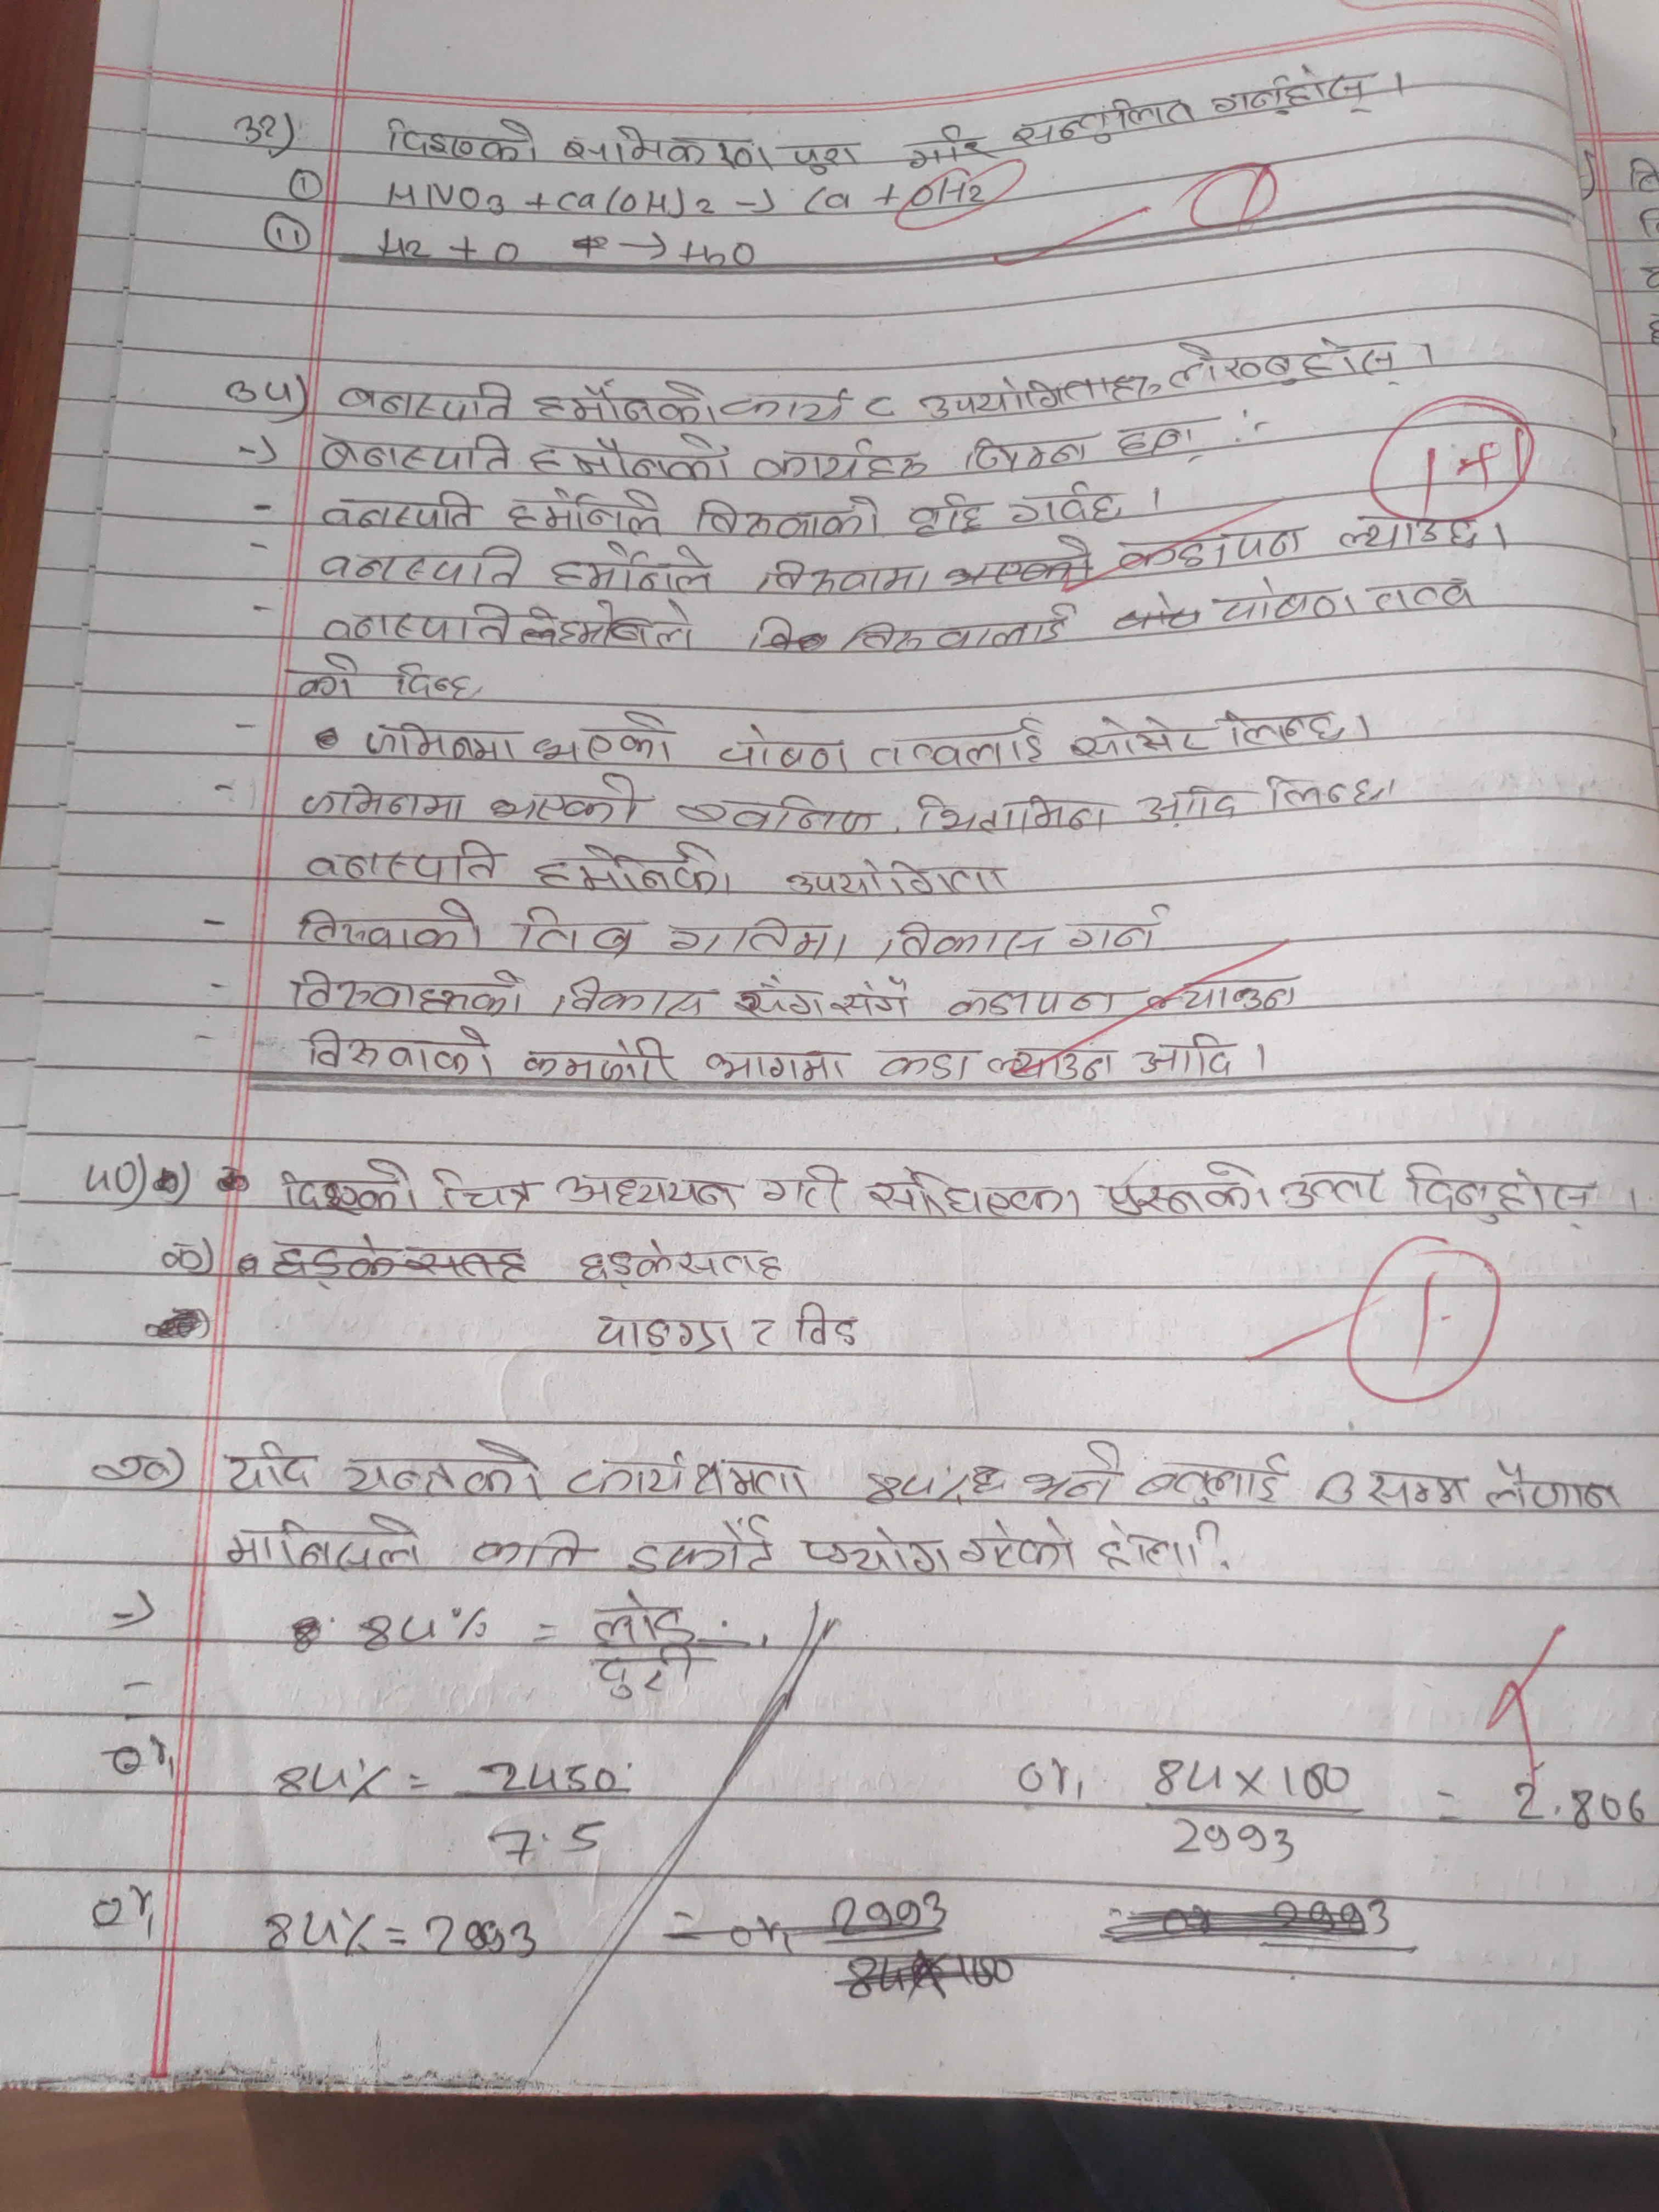text: (340, 1432, 540, 1508), (563, 1449, 812, 1508), (1398, 1158, 1601, 1230), (1171, 334, 1410, 387), (303, 965, 530, 1019), (225, 1514, 429, 1573), (915, 371, 1148, 421), (864, 1167, 1087, 1219), (307, 1019, 493, 1080), (784, 852, 1016, 900), (526, 434, 739, 486), (565, 125, 775, 178), (305, 833, 502, 888), (295, 895, 479, 953), (838, 606, 1080, 650), (528, 845, 735, 895), (1009, 94, 1195, 150), (1098, 1160, 1276, 1217), (579, 1238, 784, 1287), (1213, 61, 1382, 120), (626, 1519, 784, 1581), (547, 540, 720, 596), (301, 773, 469, 829), (673, 791, 878, 836), (1134, 1449, 1291, 1508), (528, 378, 718, 427), (319, 428, 514, 475), (488, 772, 647, 829), (694, 491, 885, 538), (664, 918, 854, 965), (528, 709, 674, 770), (314, 542, 526, 583), (329, 380, 518, 427), (800, 1521, 953, 1578), (1483, 1454, 1619, 1519), (1115, 528, 1307, 573), (315, 601, 514, 644), (866, 721, 1047, 768), (911, 791, 1115, 833), (554, 1169, 741, 1214), (732, 974, 917, 1019), (312, 482, 477, 533), (354, 718, 519, 768), (512, 1036, 676, 1087), (549, 975, 716, 1024), (378, 111, 538, 162), (504, 488, 666, 536), (558, 599, 697, 655), (1215, 573, 1354, 629), (877, 920, 1047, 965), (746, 439, 931, 481), (509, 902, 641, 960), (1014, 1439, 1124, 1507), (282, 1155, 420, 1209), (958, 1515, 1082, 1575), (1068, 711, 1211, 761), (749, 552, 936, 590), (1216, 700, 1349, 752), (714, 726, 850, 777), (592, 1312, 735, 1359), (1335, 509, 1485, 552), (1147, 975, 1307, 1015), (946, 986, 1134, 1019), (1094, 1521, 1202, 1578), (1263, 768, 1394, 815), (1061, 899, 1171, 954), (587, 1588, 697, 1644), (701, 1047, 850, 1087), (1002, 482, 1124, 531), (718, 388, 857, 430), (587, 1648, 702, 1698), (465, 1527, 587, 1575), (983, 1040, 1119, 1082), (429, 1165, 547, 1212), (756, 1162, 847, 1219), (223, 1439, 315, 1494), (866, 1045, 979, 1090), (1279, 1169, 1384, 1217), (1133, 779, 1241, 826), (1359, 1468, 1471, 1512), (1138, 1031, 1234, 1080), (1366, 575, 1481, 615), (1114, 416, 1208, 465), (387, 660, 484, 707), (958, 437, 1094, 470), (903, 122, 997, 169), (904, 491, 985, 542), (85, 1444, 169, 1489), (789, 1299, 864, 1346), (786, 139, 866, 174), (145, 1233, 209, 1275)
